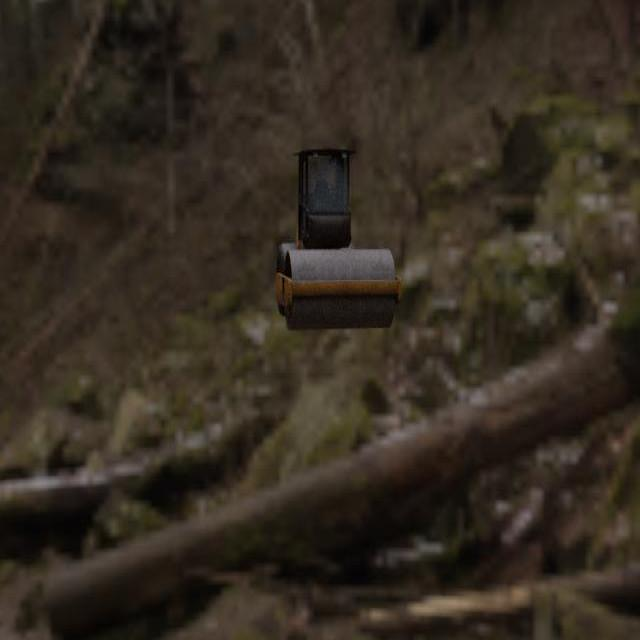Roller: (275, 147, 402, 330)
